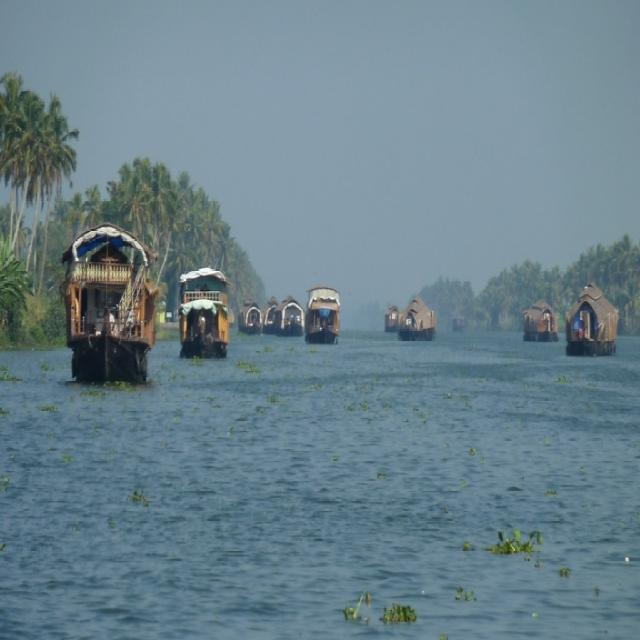Hyacinth: (478, 526, 550, 570), (342, 602, 420, 630), (115, 476, 161, 512), (0, 358, 27, 395)
boat: (64, 224, 160, 385), (180, 266, 237, 356), (561, 279, 620, 355), (299, 283, 349, 352), (391, 292, 441, 348), (521, 286, 562, 344)
